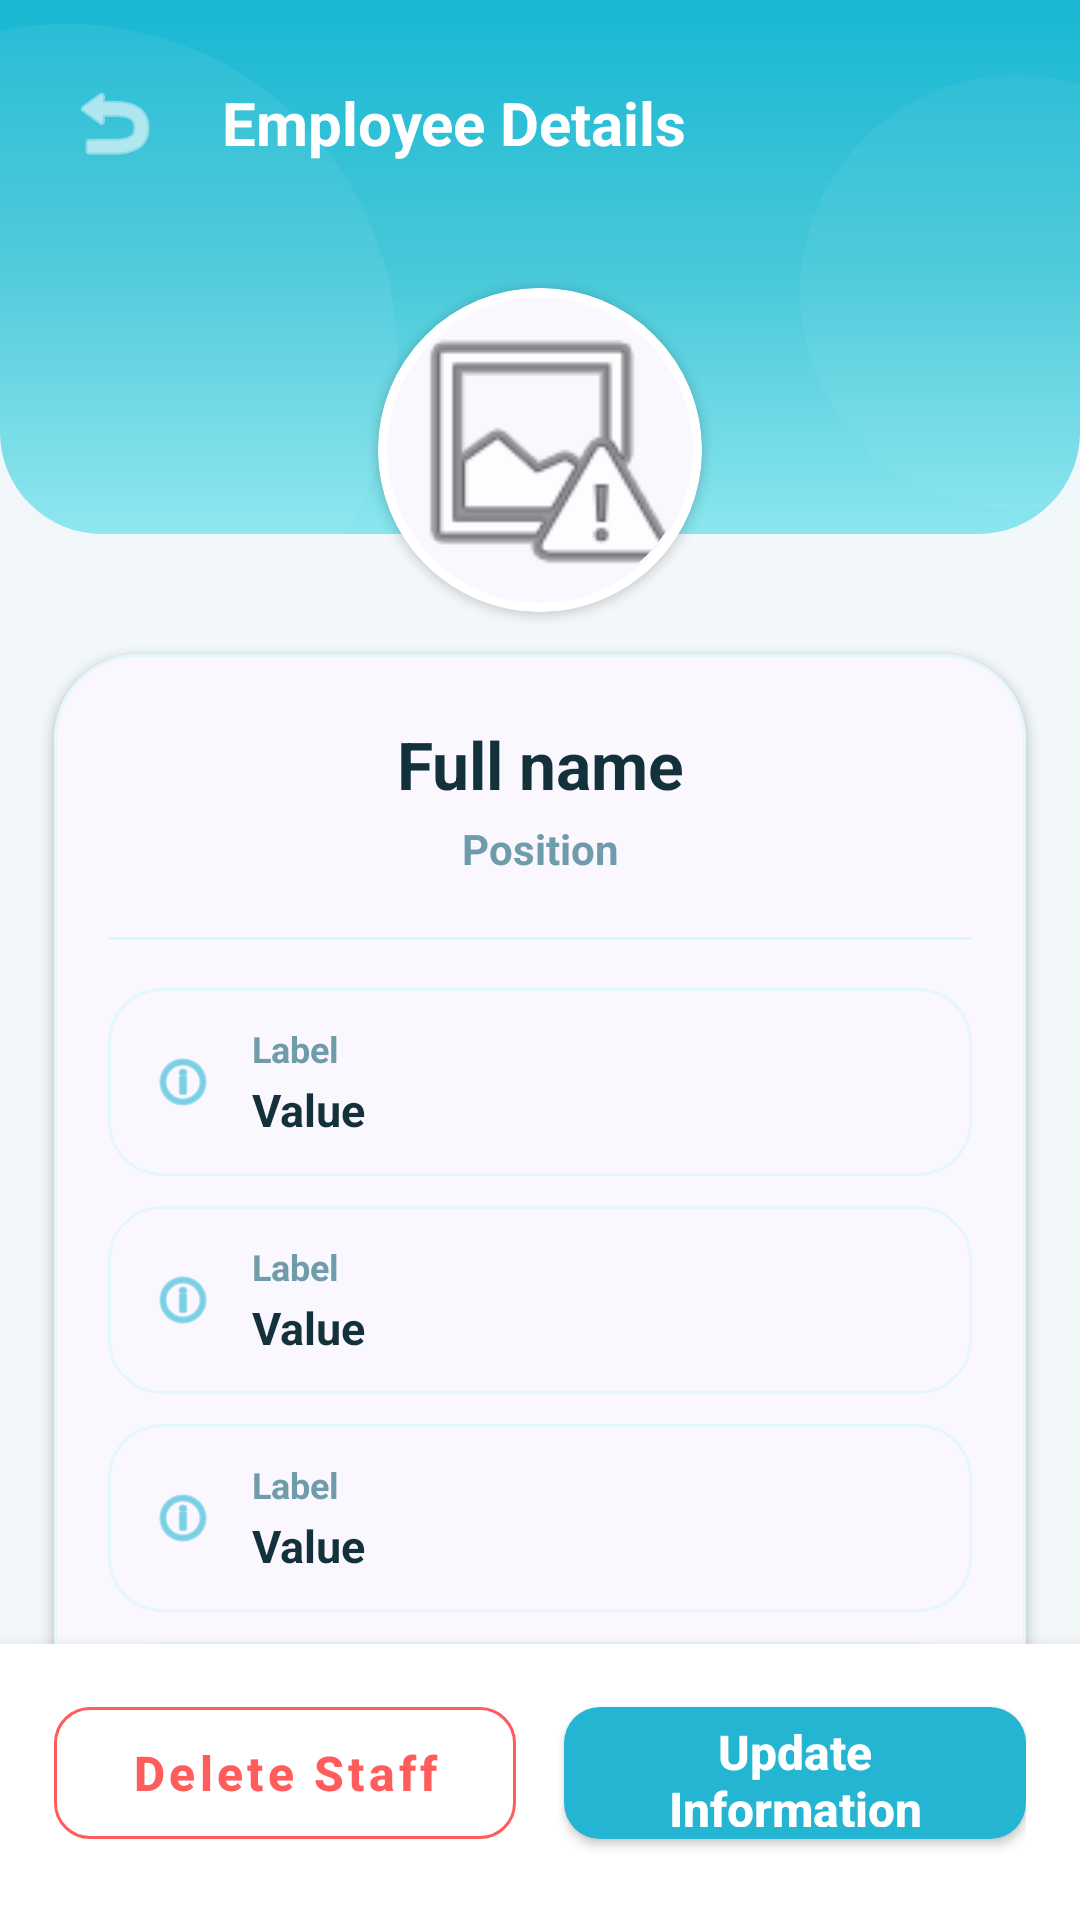

Icon bounding boxes for this 1080×1920 phone screenshot, format [left=x1, top=y1, right=x2, bottom=y2]:
info details: [left=159, top=1058, right=207, bottom=1106], [left=159, top=1276, right=207, bottom=1324], [left=159, top=1494, right=207, bottom=1542]
revert: [left=81, top=93, right=150, bottom=155]
